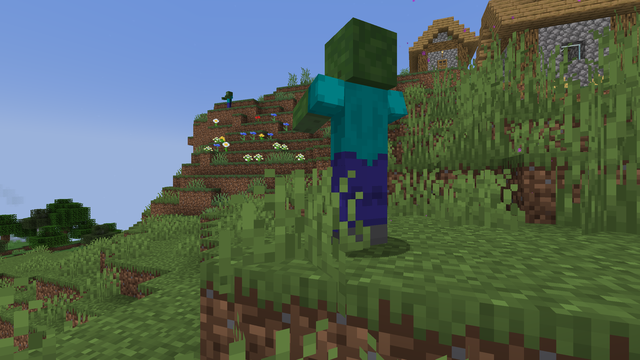zombies: (320, 19, 393, 253), (225, 91, 233, 106)
